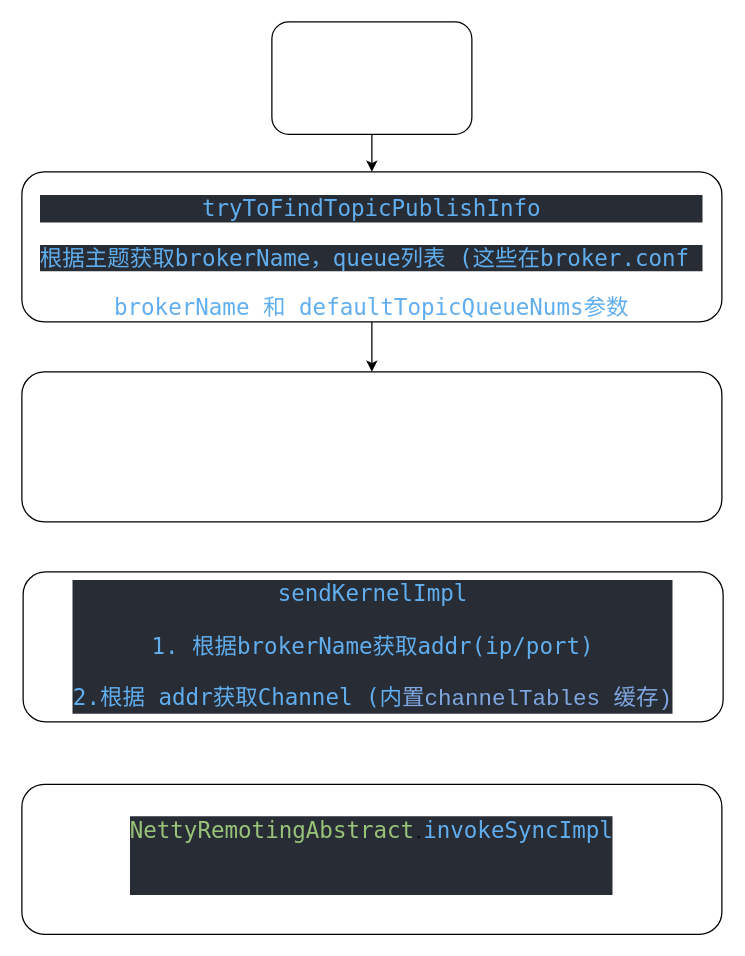
Image size: 745x956. Some labels were removed from this diagram. Each missing label, with the centre of its shape:
producer 发送msg DefaultMQProducerImpl. sendDefaultImpl: pixel 371 77
selectOneMessageQueue 根据brokerName 选择其中的一个queue: pixel 371 446
